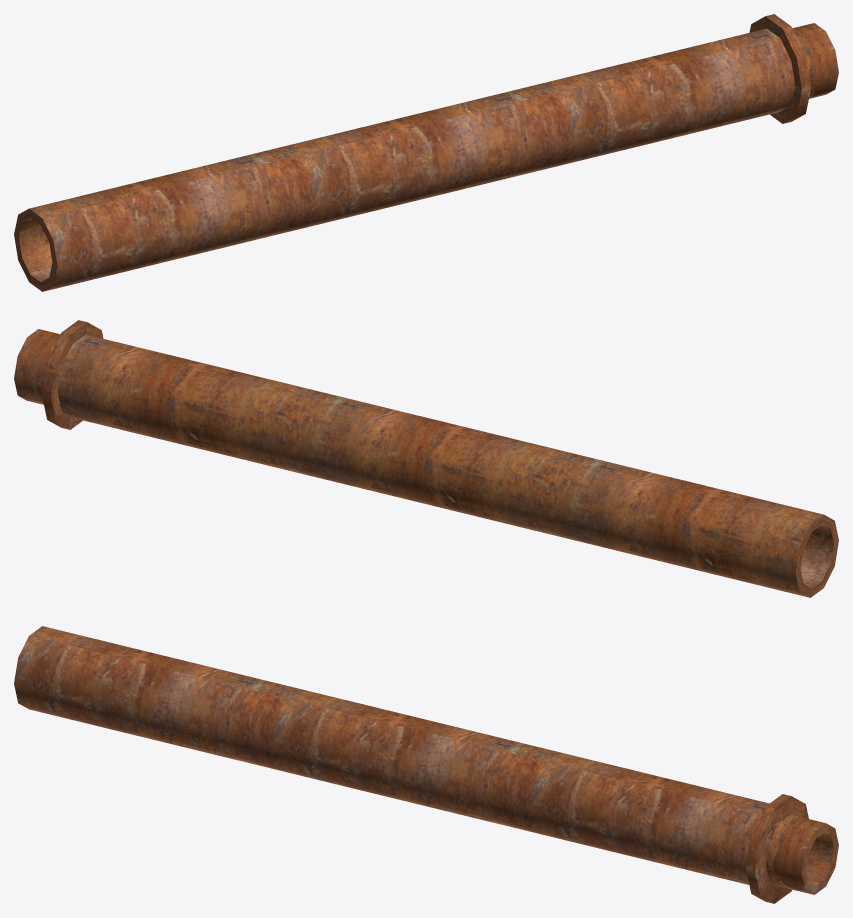
File: PipeMedA.FBX
3 renders of one model, top to bottom at view 1: azimuth 30°, elevation 25°; view 2: azimuth 150°, elevation 25°; view 3: azimuth 330°, elevation 25°, orthographic.
Visible parts, largest first — view 1: PipeMed; view 2: PipeMed; view 3: PipeMed.
Part boxes in pixels (x1,y1,x2,y2): PipeMed: (14, 14, 838, 291); PipeMed: (14, 320, 838, 597); PipeMed: (14, 626, 838, 903).
Size of the model in its own units: 265 by 30.61 by 32.79.
